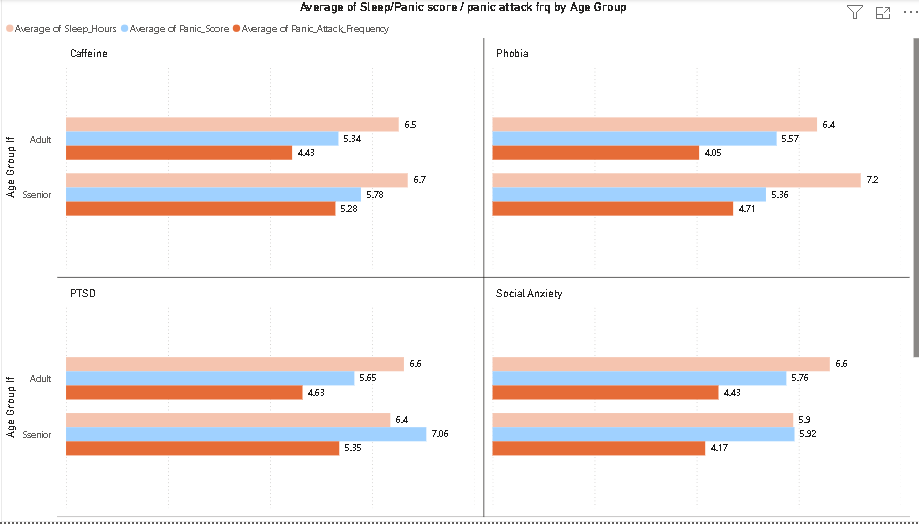

What the dashboard file says about the page in this screenshot:
{"tool":"powerbi","page":{"name":"Age Group Analysis","canvas":[1280,720],"ordinal":3},"visuals":[{"type":"clusteredBarChart","title":"Average of Sleep/Panic score / panic attack frq by Age Group","fields":{"Category":["panic_attack_dataset (1).Age Group If"],"Rows":["panic_attack_dataset (1).Trigger"],"Y":["Sum(panic_attack_dataset (1).Sleep_Hours)","Sum(panic_attack_dataset (1).Panic_Score)","Sum(panic_attack_dataset (1).Panic_Attack_Frequency)"]},"box":[10.1,0,1270.1,720],"z":0}]}

Visuals, with their boxes in screenshot pixels (x1, y1, x2, y2), scaled from the page's 1280x720 canvas onto the 919x527 screenshot:
"Average of Sleep/Panic score / panic attack frq by Age Group" clusteredBarChart: crop(7, 0, 918, 526)
